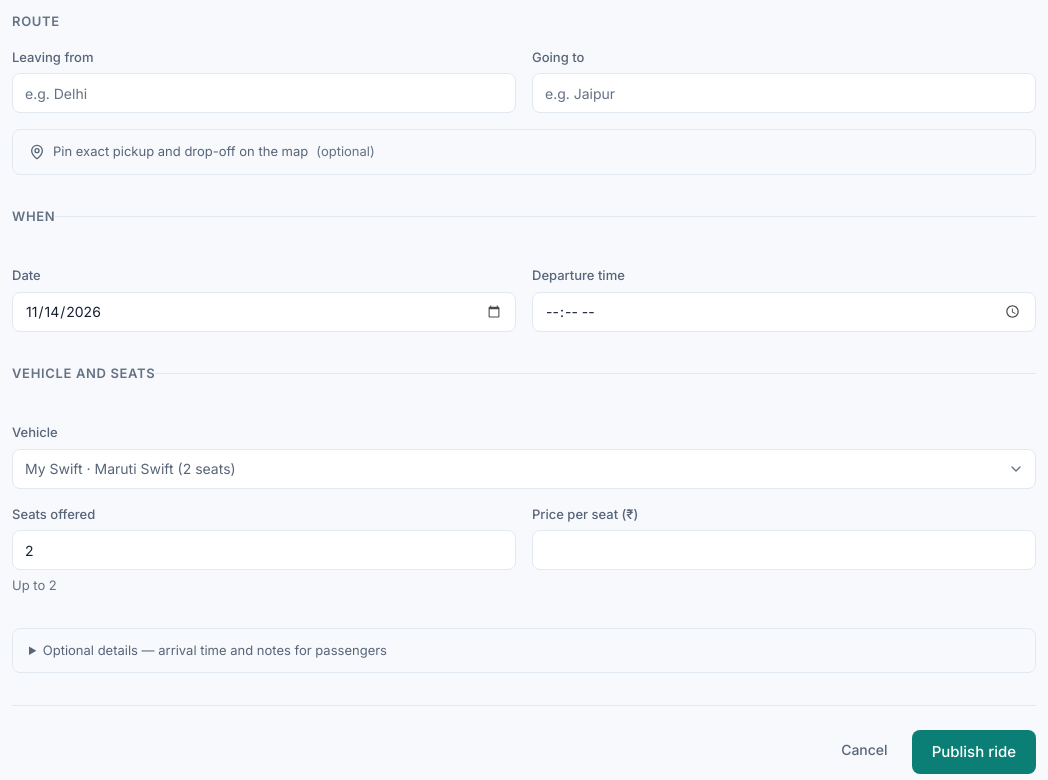
Test case: ride publishing form › prevents more seats than the vehicle has
Type "Delhi" into the field labelled "Leaving from" at [264, 93], box x1=12 y1=73 x2=516 y2=113
Type "Jaipur" into the field labelled "Going to" at [784, 93], box x1=532 y1=73 x2=1036 y2=113
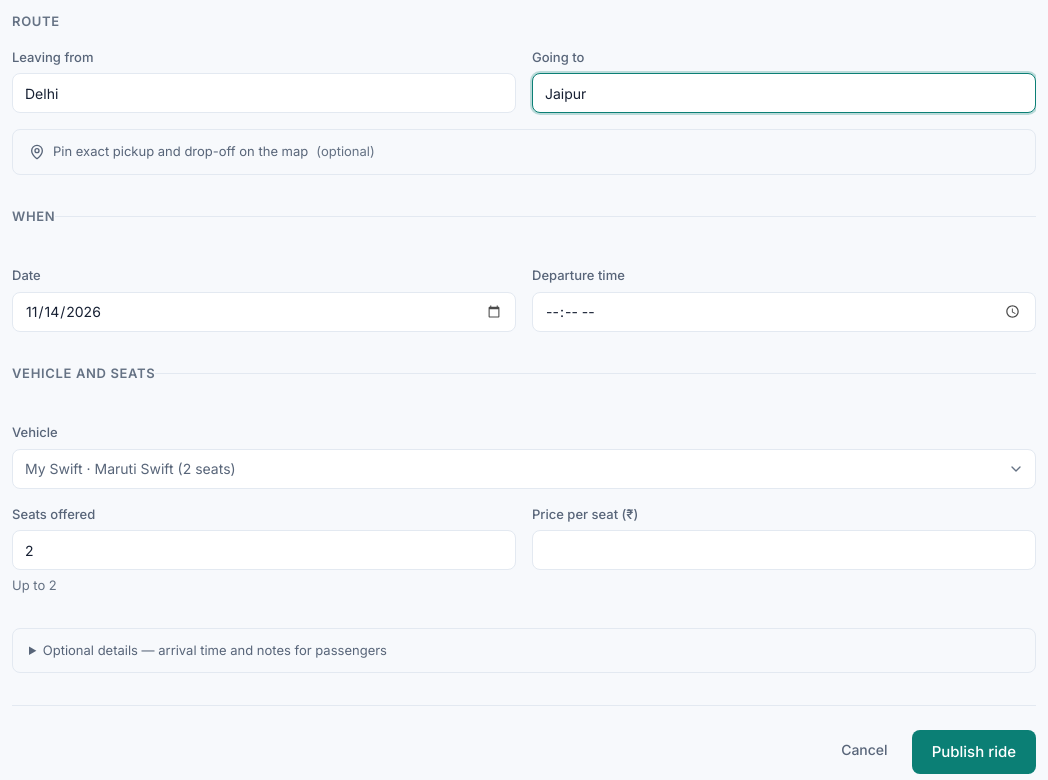
Type "2099-11-15" into the date field labelled "Date" at [264, 312], box x1=12 y1=292 x2=516 y2=332
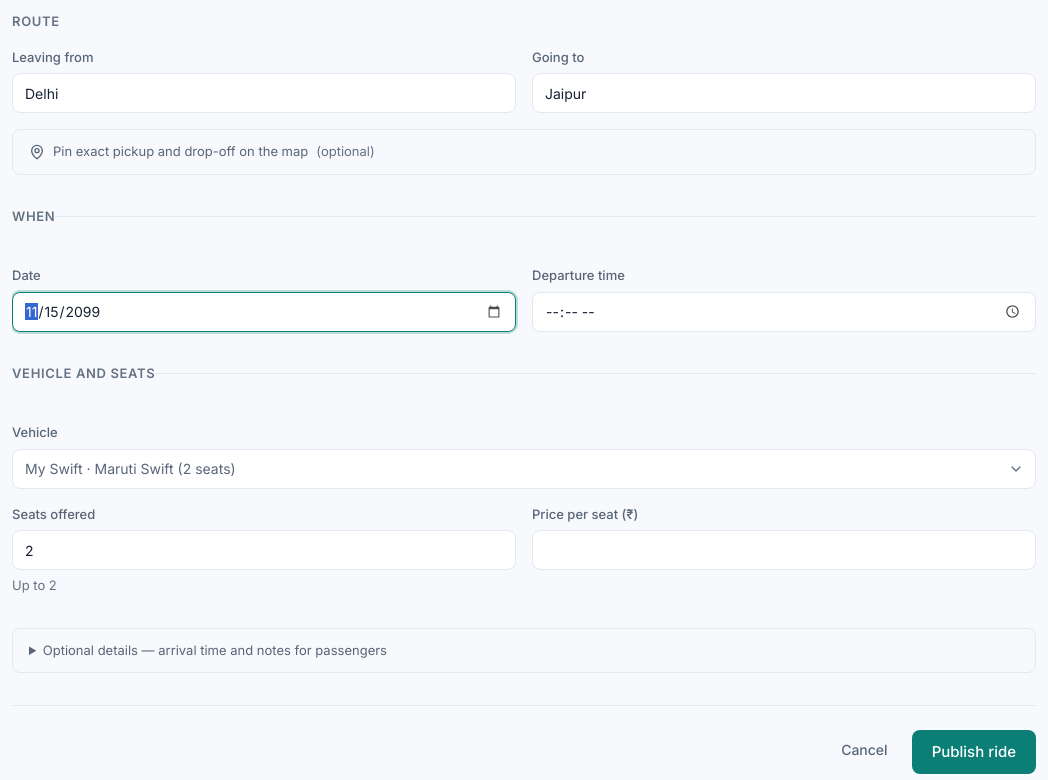
Type "09:30" into the time field labelled "Departure time" at [784, 312], box x1=532 y1=292 x2=1036 y2=332
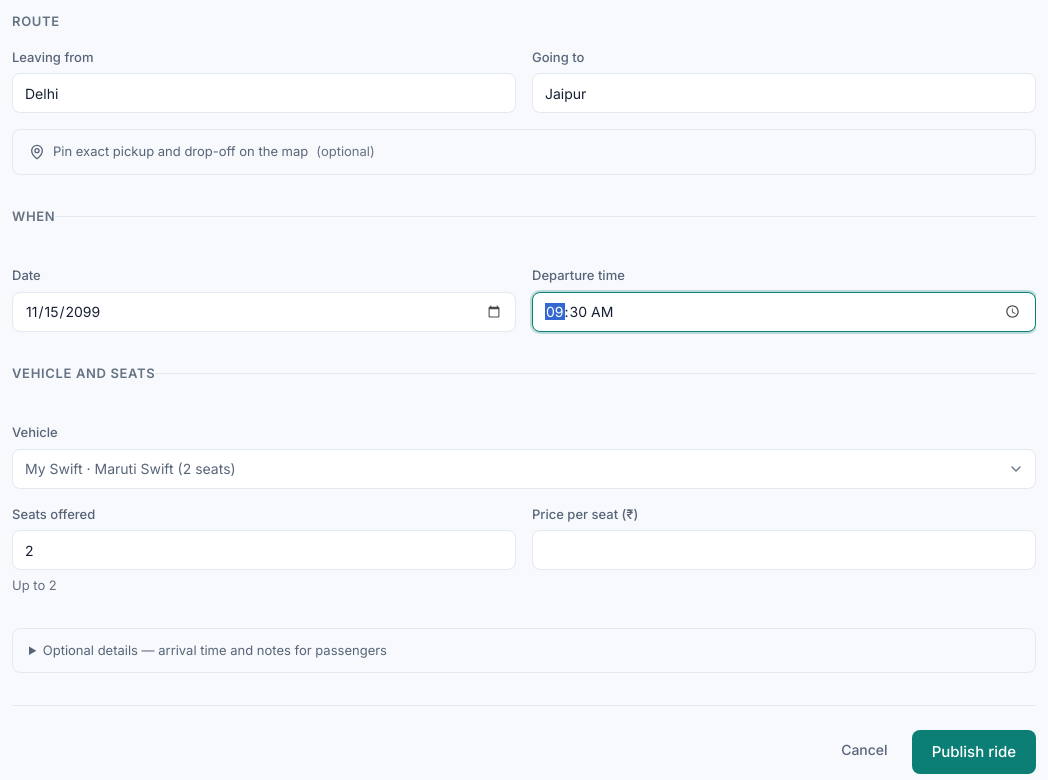
Type "650" into the number field labelled "Price per seat (₹)" at [784, 550], box x1=532 y1=530 x2=1036 y2=570
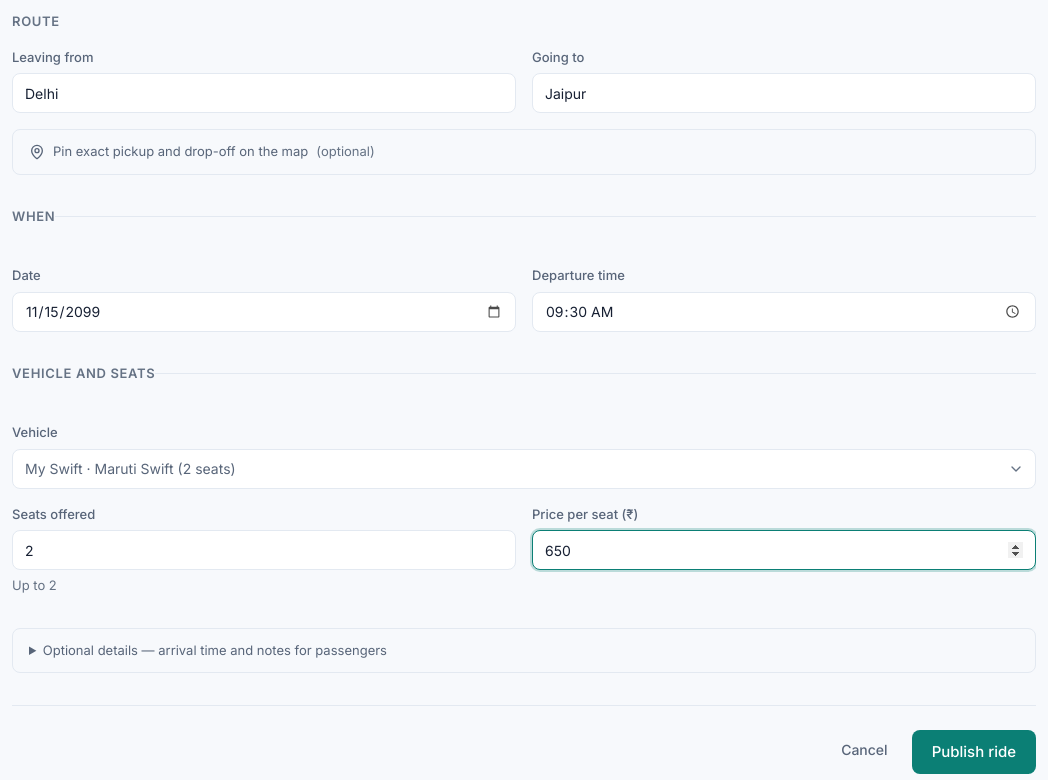
Replace the text in the number field labelled "Seats offered" with "3" at [264, 550], box x1=12 y1=530 x2=516 y2=570
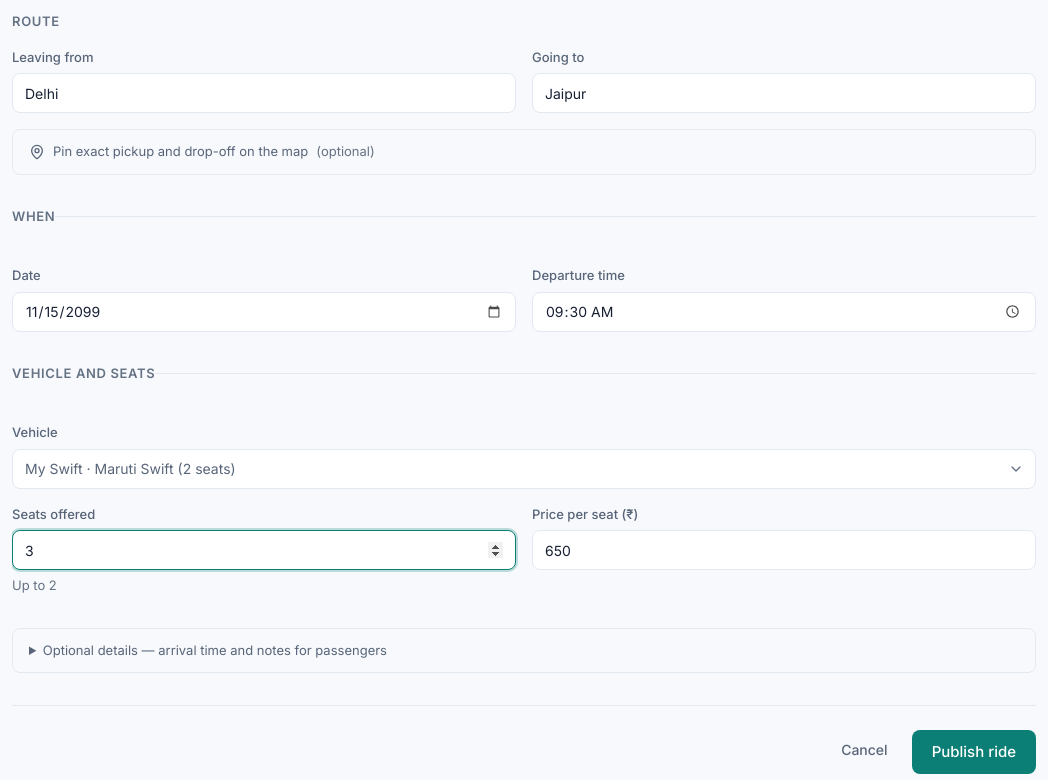
Click the button "Publish ride" at [974, 752], box x1=912 y1=730 x2=1036 y2=774
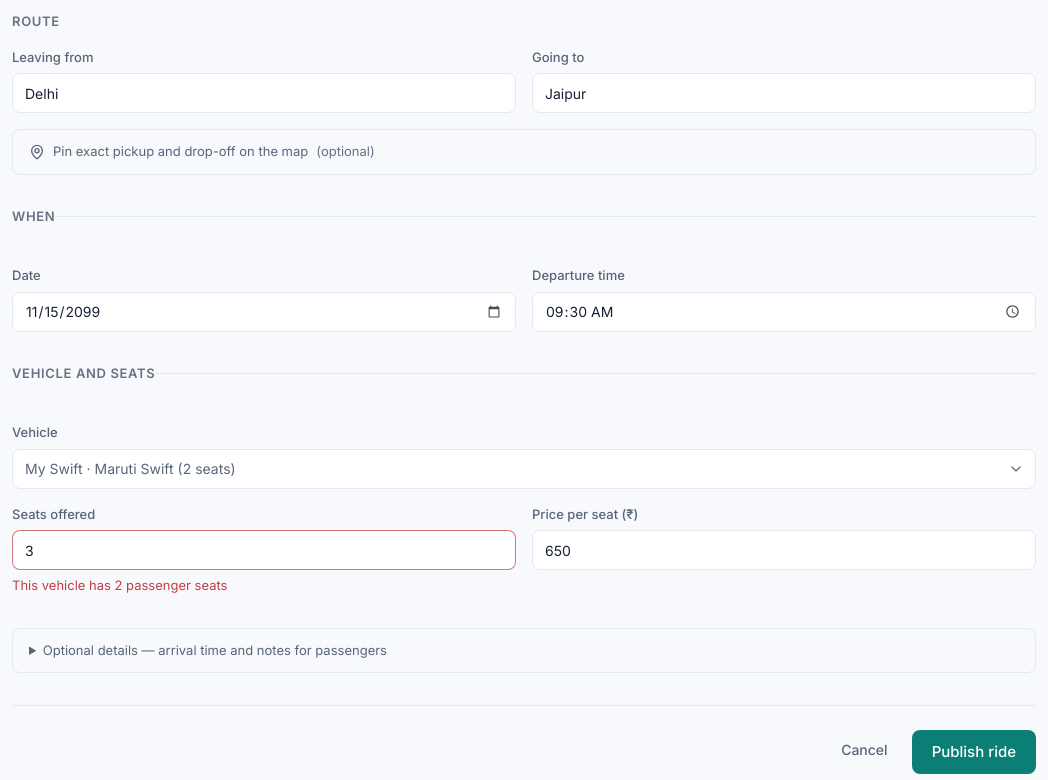
Now the text "This vehicle has 2 passenger seats" is shown, box x1=12 y1=577 x2=228 y2=593
